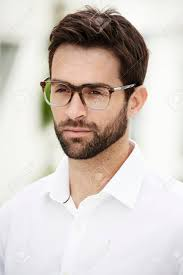Glasses: (32, 73, 141, 113)
